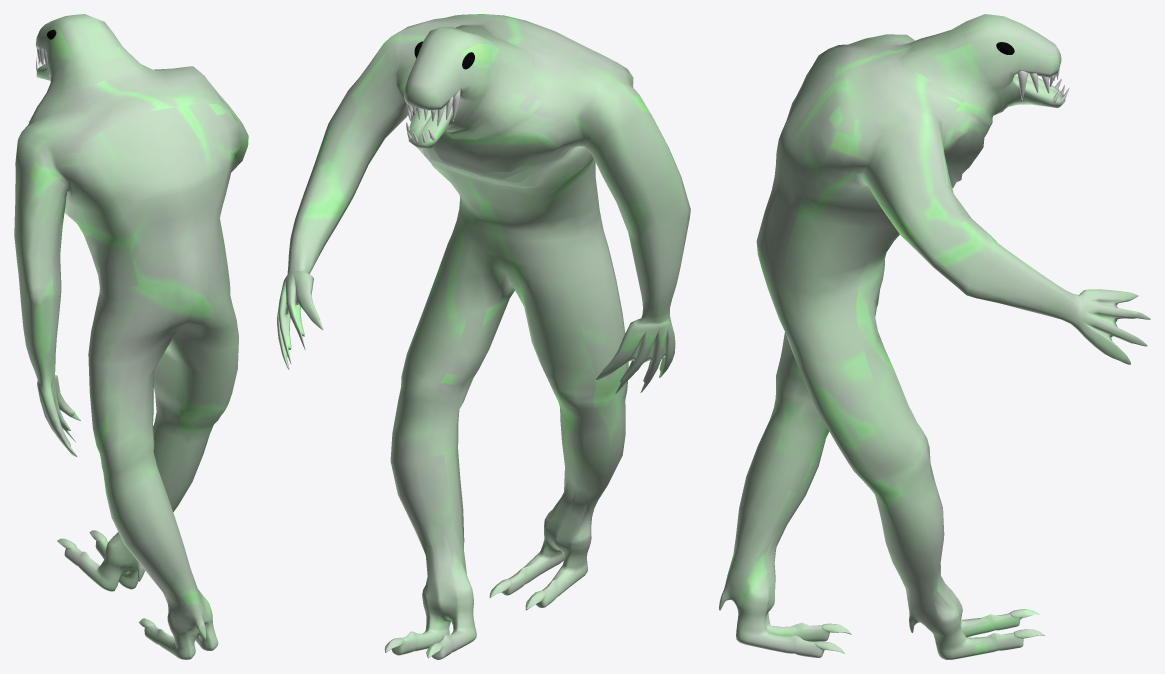
File: Berserkerandar.0026.obj
3 views of the same model, side by side, from view 1: azimuth 30°, elevation 25°; view 2: azimuth 150°, elevation 25°; view 3: azimuth 270°, elevation 25° (orthographic). The views are drawn at different scales.
Visible parts, largest first — view 1: polySurface27; view 2: polySurface27; view 3: polySurface27.
Boxes of the visible parts, bbox=[...] form: polySurface27: bbox=[14, 14, 248, 659]; polySurface27: bbox=[277, 14, 690, 659]; polySurface27: bbox=[719, 14, 1150, 659].
Size of the model in its own units: 11.46 by 22.99 by 14.42.
Materials: 1 (1 with a texture image).
